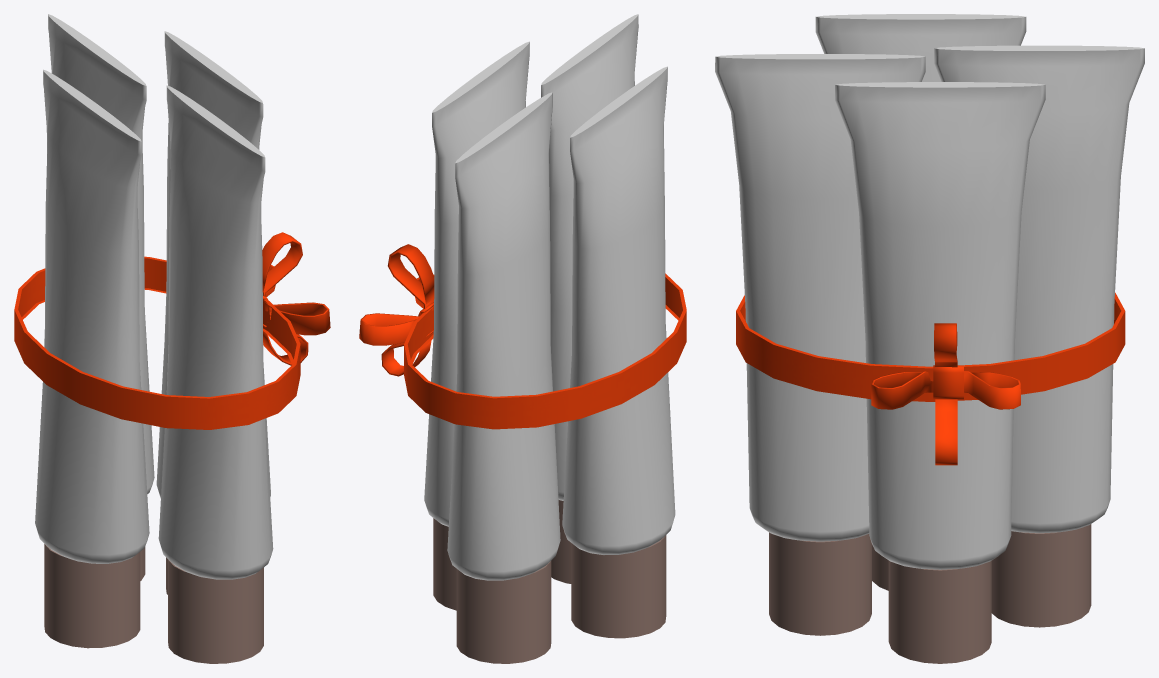
Rendered from Beauty_Gift_Box_013.fbx.
3 renders of one model, left to right at view 1: azimuth 30°, elevation 25°; view 2: azimuth 150°, elevation 25°; view 3: azimuth 270°, elevation 25°, orthographic. The views are drawn at different scales.
Parts seen in each view (by area): view 1: Beauty_Gift_Box_013; view 2: Beauty_Gift_Box_013; view 3: Beauty_Gift_Box_013.
Part boxes in pixels (x1,y1,x2,y2): Beauty_Gift_Box_013: (14,14,330,663); Beauty_Gift_Box_013: (359,14,686,663); Beauty_Gift_Box_013: (715,14,1144,663).
Bounding box in the file's own units: 20.78 × 38.48 × 26.9.
